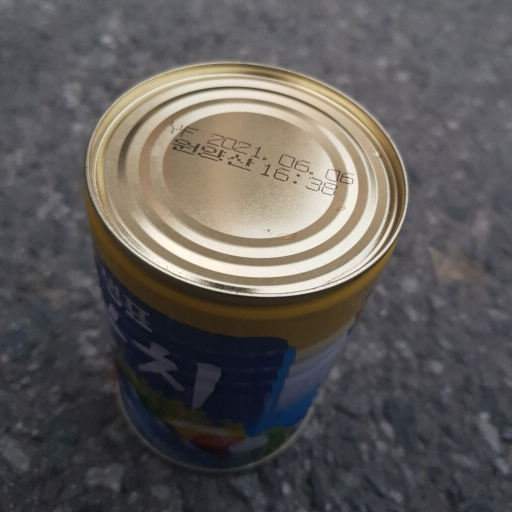Metal_1: (81, 61, 410, 471)
